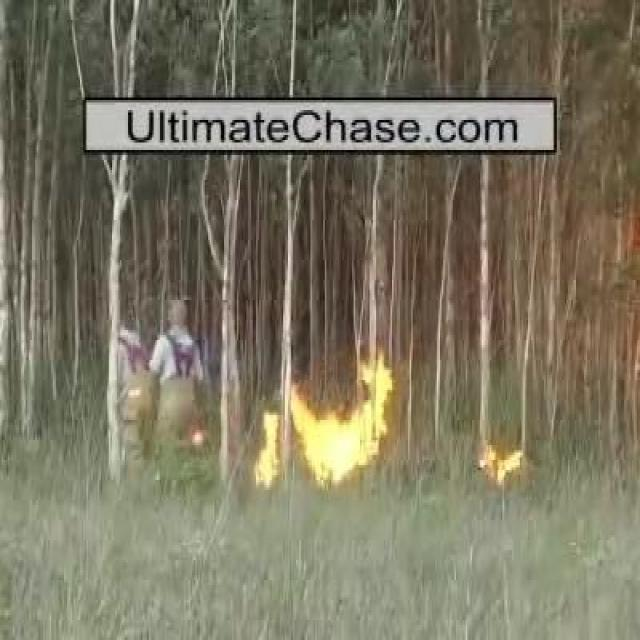Fire: (254, 359, 391, 491), (480, 441, 523, 481)
